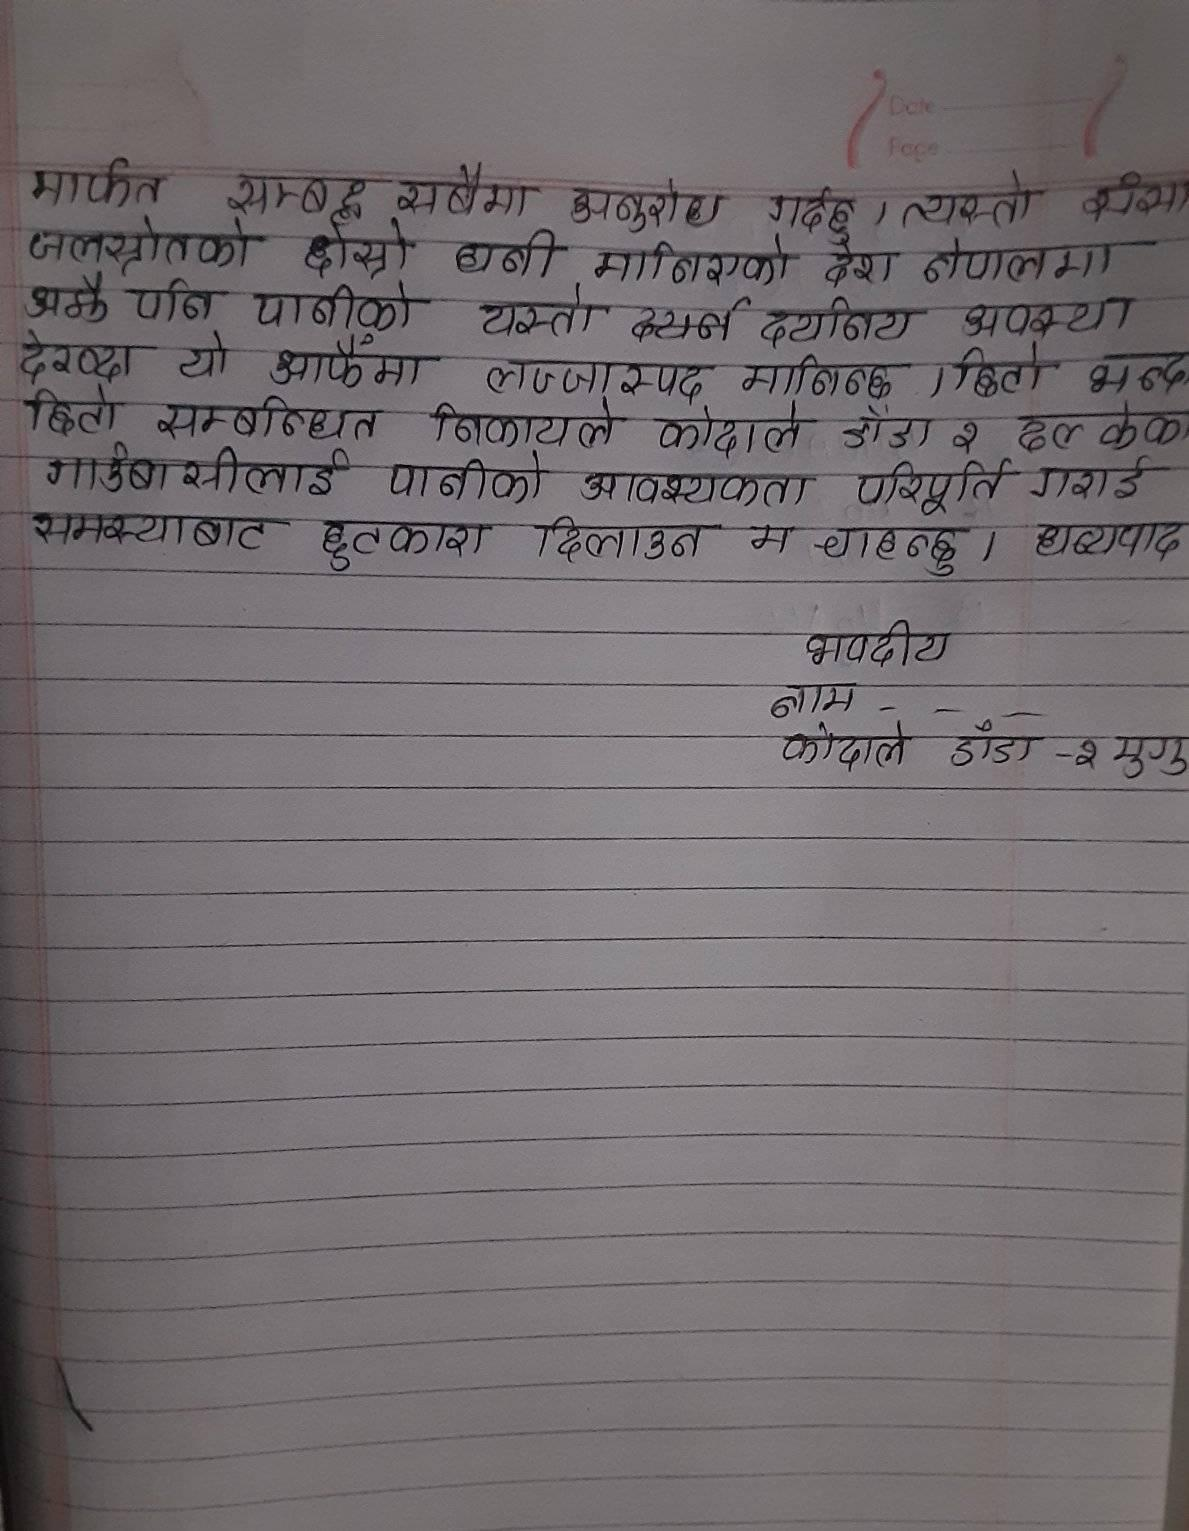text: (39, 436, 354, 503), (25, 501, 289, 558), (25, 215, 271, 276), (157, 390, 388, 450), (476, 349, 719, 404), (311, 511, 497, 582), (919, 235, 1160, 290), (574, 461, 819, 513), (422, 393, 629, 454), (563, 171, 733, 239), (808, 517, 974, 585), (526, 511, 719, 569), (593, 239, 799, 292), (246, 278, 435, 336), (265, 333, 440, 394), (757, 292, 932, 350), (739, 349, 918, 406), (381, 449, 550, 508), (393, 160, 539, 229), (1014, 401, 1189, 459), (646, 400, 815, 459), (900, 165, 1039, 235), (22, 153, 171, 217), (221, 164, 376, 225), (796, 613, 958, 671), (850, 459, 1008, 517), (958, 293, 1132, 342), (17, 326, 162, 383), (1025, 519, 1189, 568), (775, 720, 919, 774), (1024, 454, 1168, 507), (297, 221, 417, 283), (468, 288, 601, 342), (446, 227, 568, 285), (950, 339, 1060, 400), (21, 378, 128, 437), (1082, 343, 1189, 401), (125, 273, 231, 329), (839, 399, 939, 457), (764, 181, 859, 244), (1078, 171, 1189, 224), (941, 721, 1044, 775), (25, 272, 119, 329), (767, 674, 861, 724), (1107, 722, 1189, 780), (818, 239, 903, 290), (176, 328, 239, 386), (740, 513, 801, 563), (943, 413, 986, 456), (1064, 733, 1100, 775)
